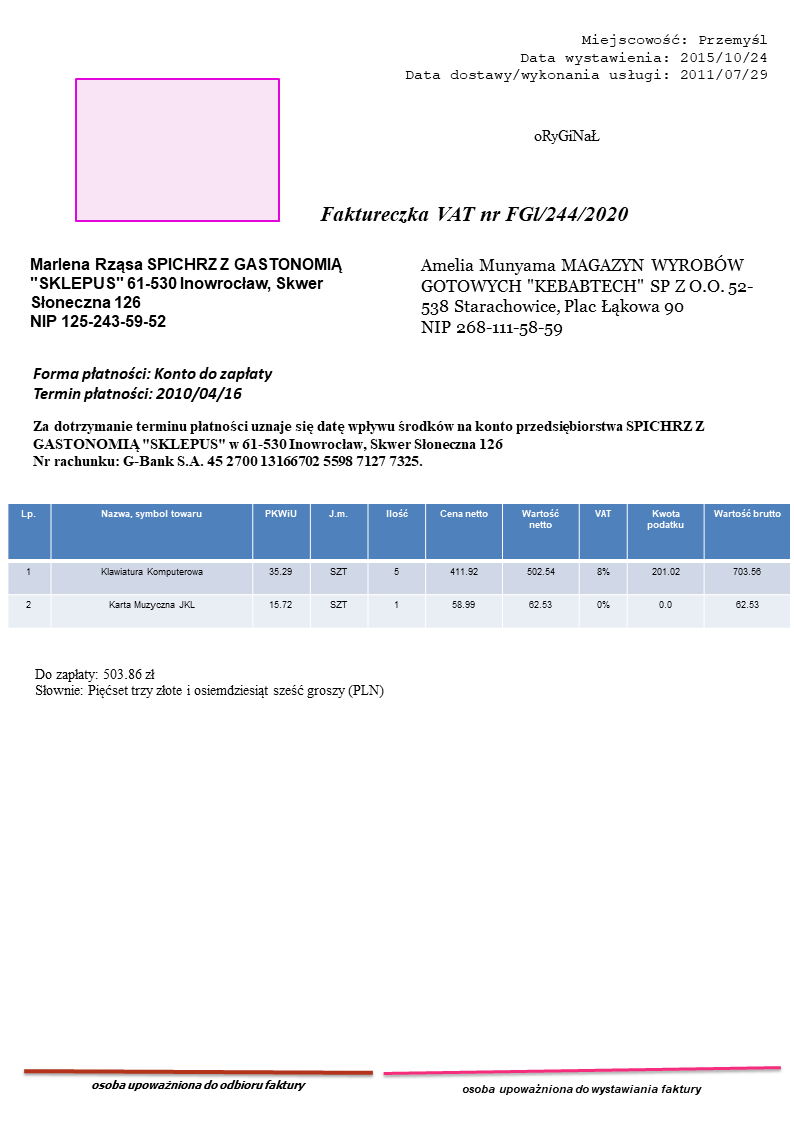Table: (4, 502, 792, 630)
TextBox: (30, 416, 706, 471), (417, 254, 757, 338), (26, 252, 343, 332), (402, 31, 771, 85), (33, 664, 386, 703), (30, 363, 275, 404), (317, 201, 632, 226), (88, 1077, 306, 1095), (458, 1081, 703, 1097), (531, 123, 601, 147)
